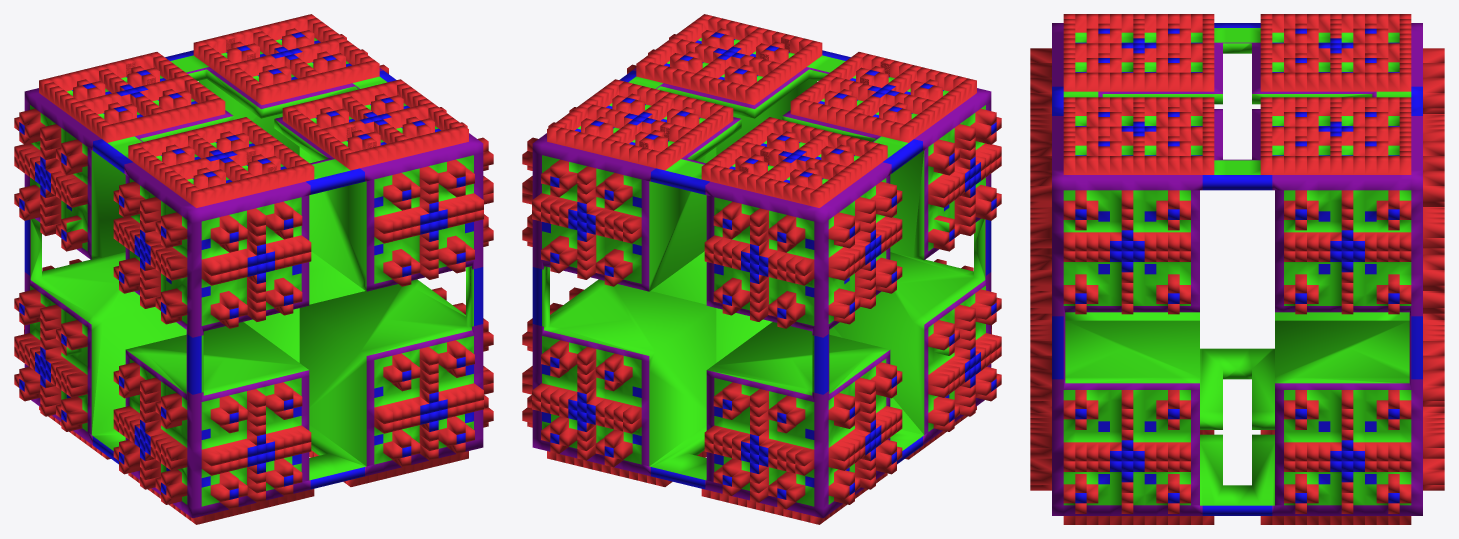
Rendered from crosscube.glb.
3 views of the same model, side by side, from view 1: azimuth 30°, elevation 25°; view 2: azimuth 150°, elevation 25°; view 3: azimuth 270°, elevation 25° (orthographic). The views are drawn at different scales.
Parts seen in each view (by area): view 1: Cube; view 2: Cube; view 3: Cube.
Part boxes in pixels (x1,y1,x2,y2): Cube: (14,14,493,524); Cube: (522,14,1001,524); Cube: (1030,14,1444,524).
Size of the model in its own units: 2.22 by 2.17 by 2.23.
